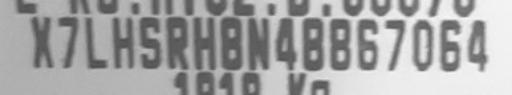letter: (434, 18, 468, 77), (80, 16, 110, 69), (134, 15, 162, 70), (352, 17, 380, 72), (28, 13, 54, 72), (162, 15, 188, 74), (326, 14, 352, 71), (218, 17, 244, 72), (272, 17, 298, 72), (466, 19, 492, 74), (190, 16, 216, 69), (300, 16, 326, 69), (109, 16, 135, 69), (244, 17, 270, 70), (382, 18, 408, 71), (54, 14, 78, 69), (410, 18, 434, 71)
